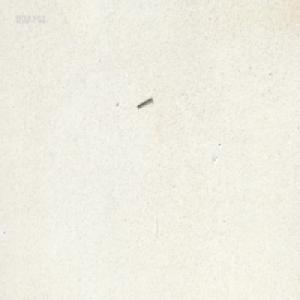Bolt: (135, 94, 151, 107)
